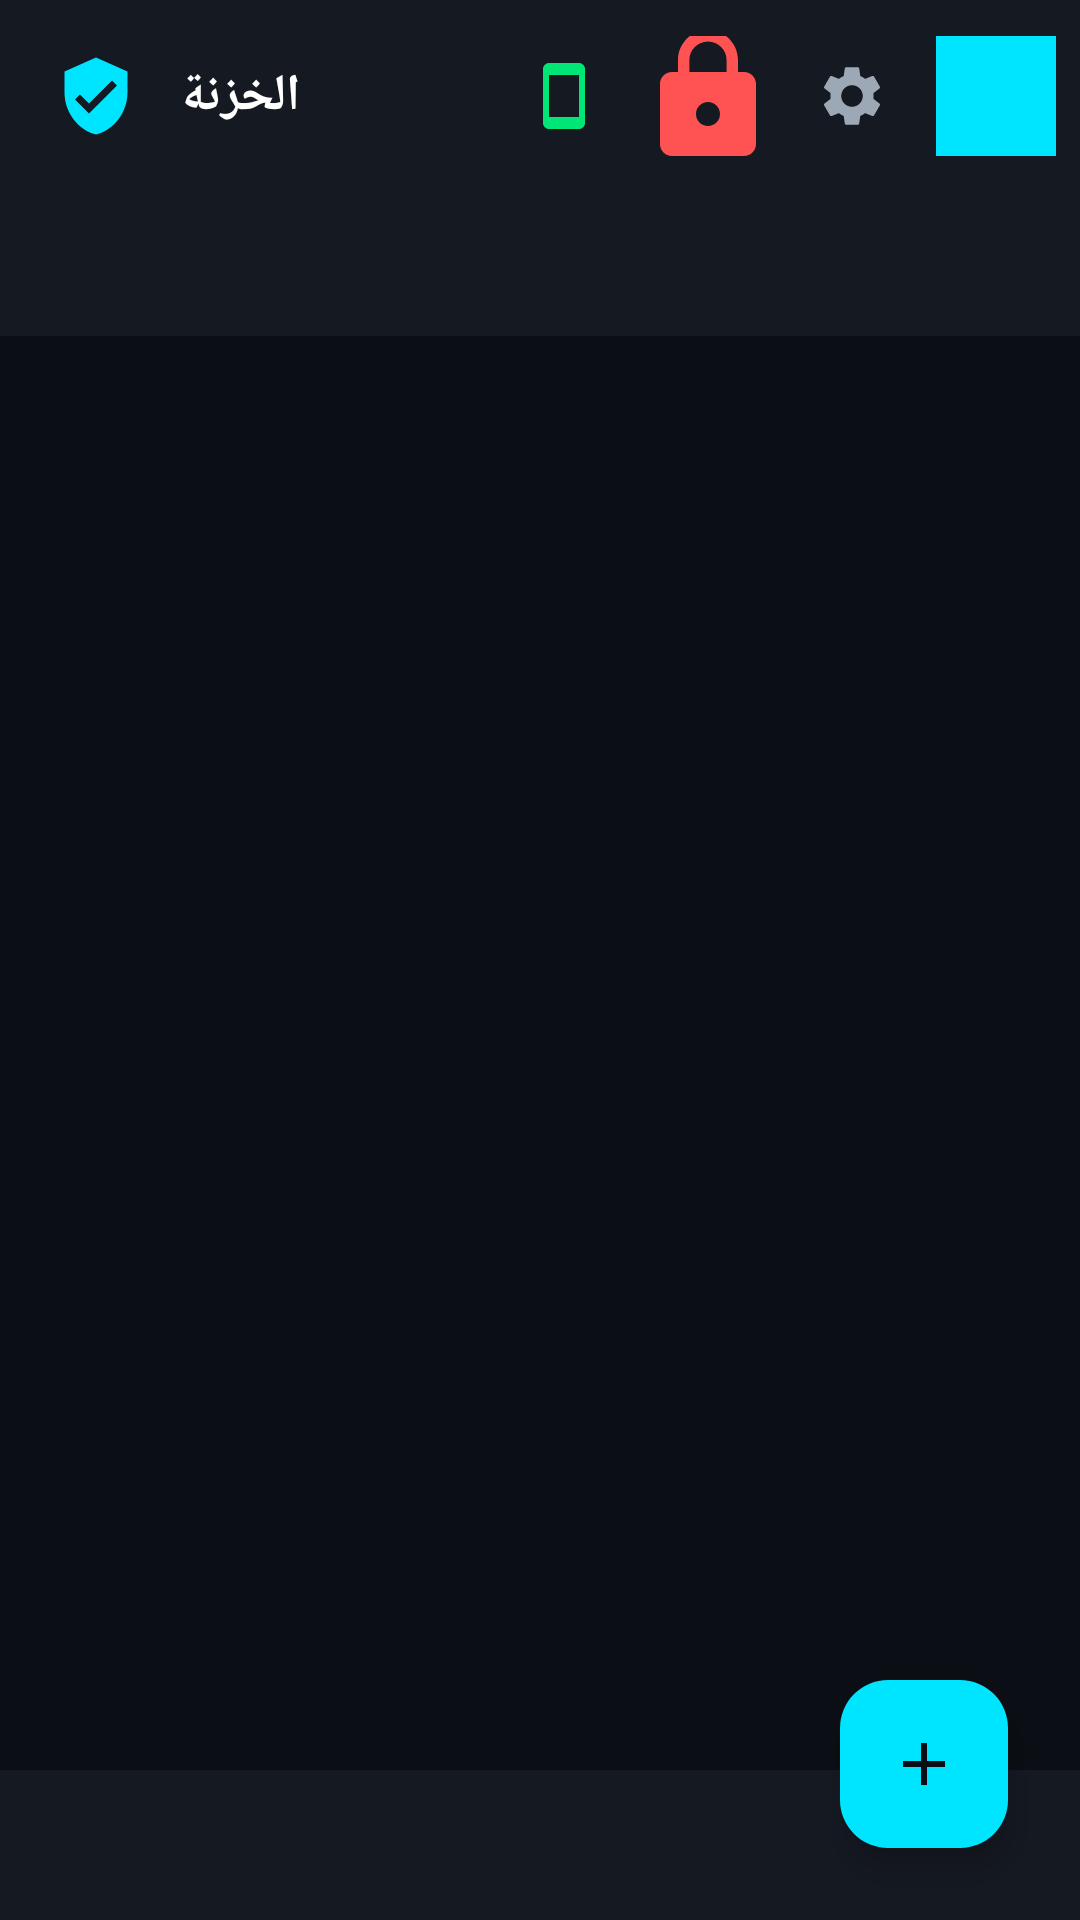

Icon click points for this 1080 × 1920 phone screenshot, format (x=x, y=y):
Security Audit: (x=96, y=96)
إضافة وتشفير ملفات: (x=924, y=1764)
إعدادات الأمان والحماية: (x=852, y=96)
الجوال الثاني: (x=564, y=96)
